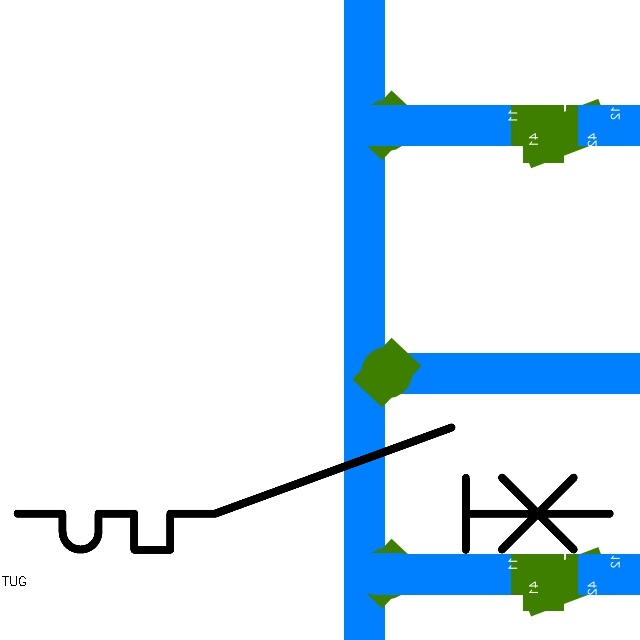interruptor_termomagnetico: (2, 412, 625, 565)
